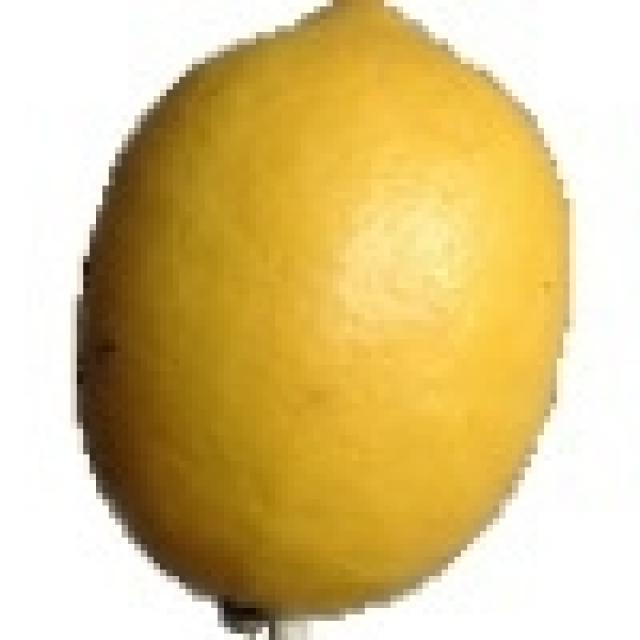lemon: (80, 0, 568, 624)
